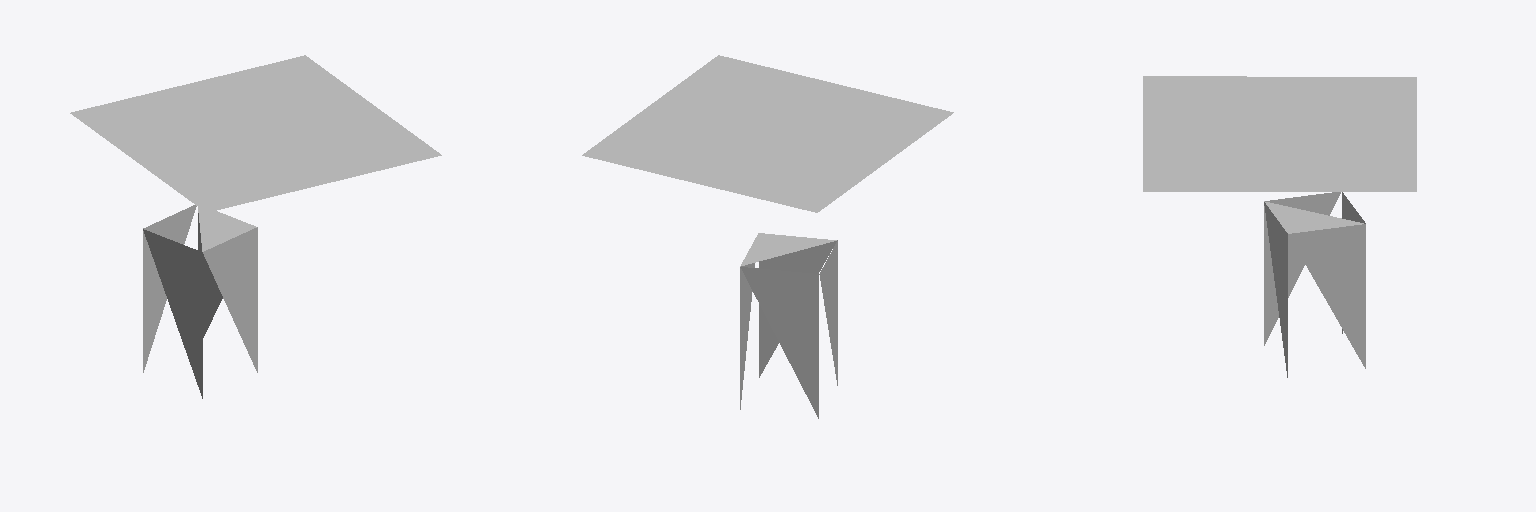
Rendered from test-lighting.obj.
3 renders of one model, left to right at view 1: azimuth 30°, elevation 25°; view 2: azimuth 150°, elevation 25°; view 3: azimuth 270°, elevation 25°, orthographic.
Parts seen in each view (by area): view 1: ceiling, tall_box; view 2: ceiling, tall_box; view 3: ceiling, tall_box.
Boxes of the visible parts, box(x1,y1,x2,y2) form: ceiling: box(70, 55, 441, 212); tall_box: box(143, 205, 257, 398); ceiling: box(582, 55, 953, 212); tall_box: box(740, 233, 837, 418); ceiling: box(1143, 76, 1416, 191); tall_box: box(1264, 192, 1365, 377).
Bounding box in the file's own units: 5.56 × 5.49 × 5.59.